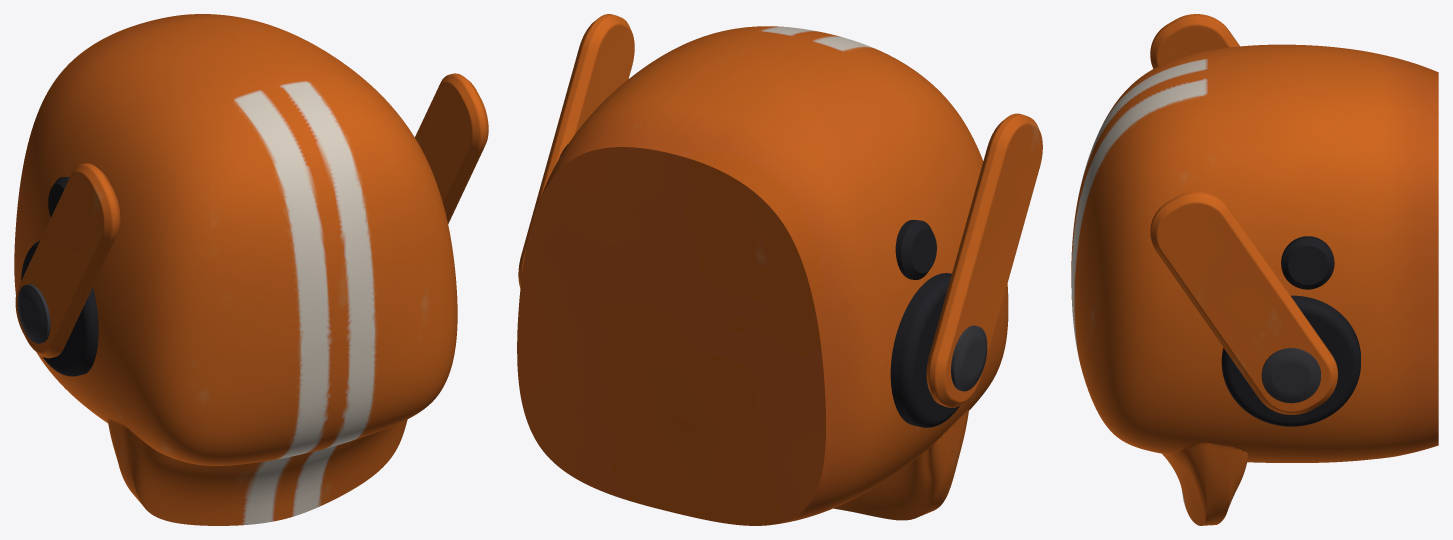
The model's file is LittleBotV1_textured.glb.
3 views of the same model, side by side, from view 1: azimuth 30°, elevation 25°; view 2: azimuth 150°, elevation 25°; view 3: azimuth 270°, elevation 25° (orthographic). The views are drawn at different scales.
Visible parts, largest first — view 1: body; view 2: body; view 3: body.
Boxes of the visible parts, x1,y1,x2,y2 form: body: [14, 14, 488, 525]; body: [517, 14, 1042, 525]; body: [1071, 14, 1438, 525].
Bounding box in the file's own units: 70 × 72.54 × 56.8.
